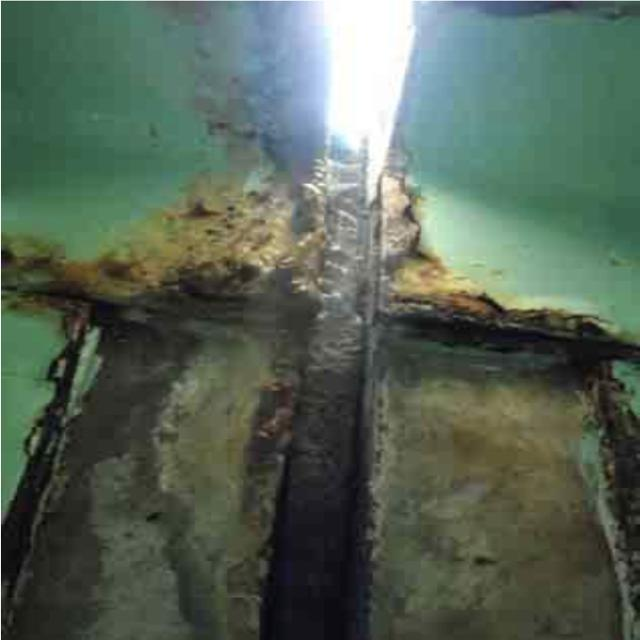corrosion: (13, 164, 618, 619)
